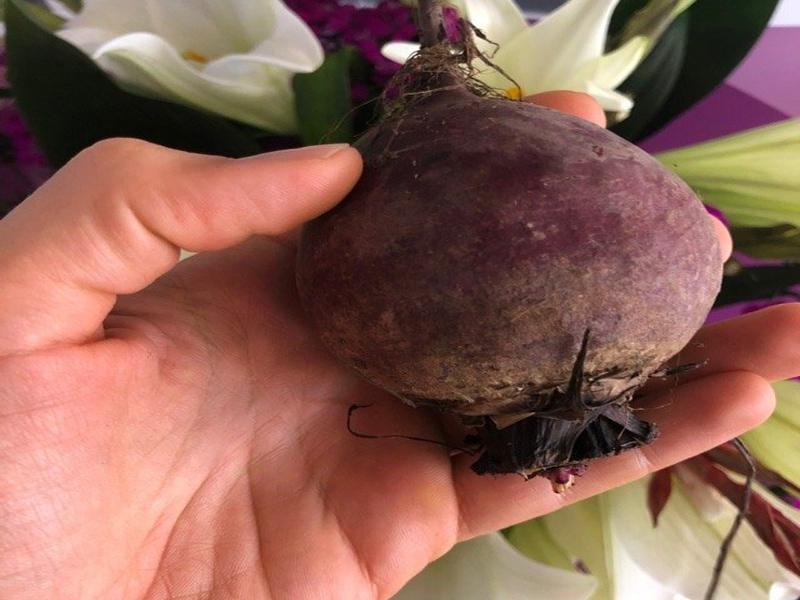Beet: (296, 2, 725, 489)
